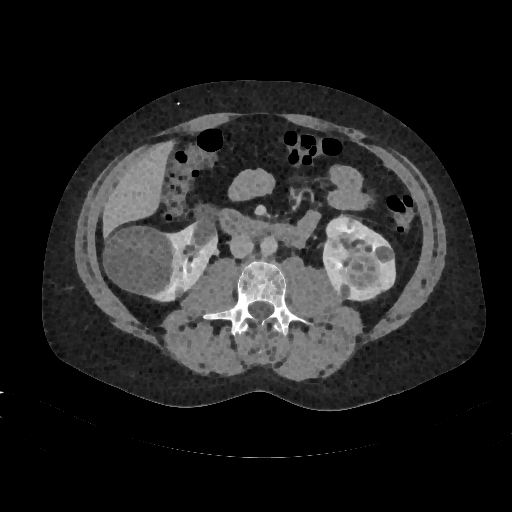Lesion: (341, 246, 383, 294)
